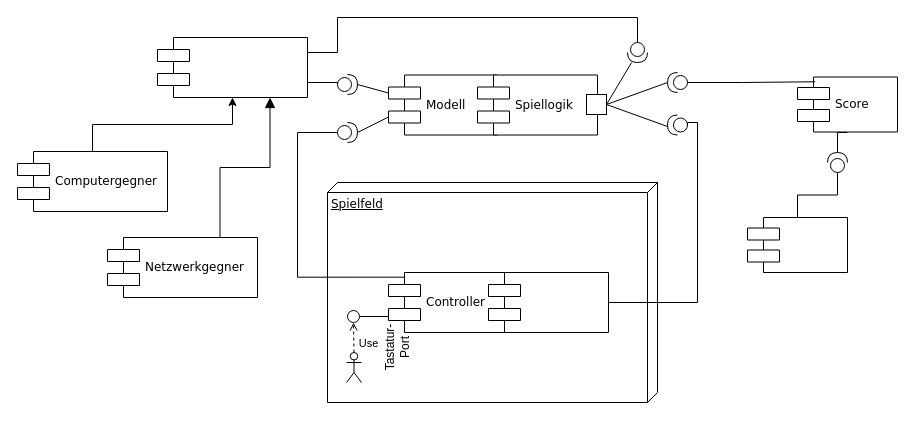
The diagram is 915 pixels wide and 421 high, and some of its shapes have lost their labels. The centre of each missing label's shape, as x and y in pixels:
Gegner Interface: point (232, 67)
Highscore: point (797, 244)
Spieler: point (354, 367)
View: point (548, 302)
